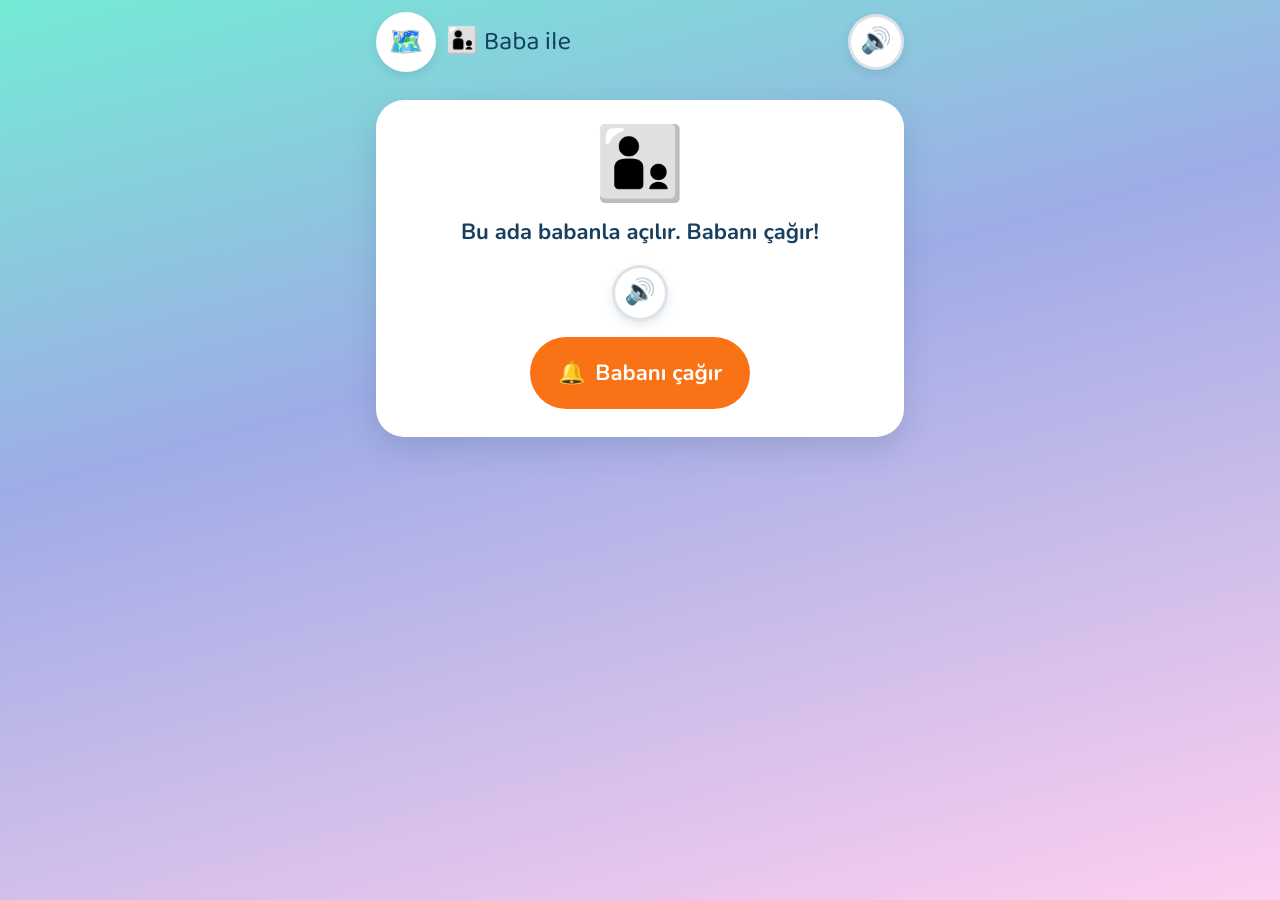
Test: IslandScreen › Baba ile adası birlikte oyun olmadan kapıyla korunur
Click the button "🔔 Babanı çağır": coordinates (640, 373) [530,337,750,409]
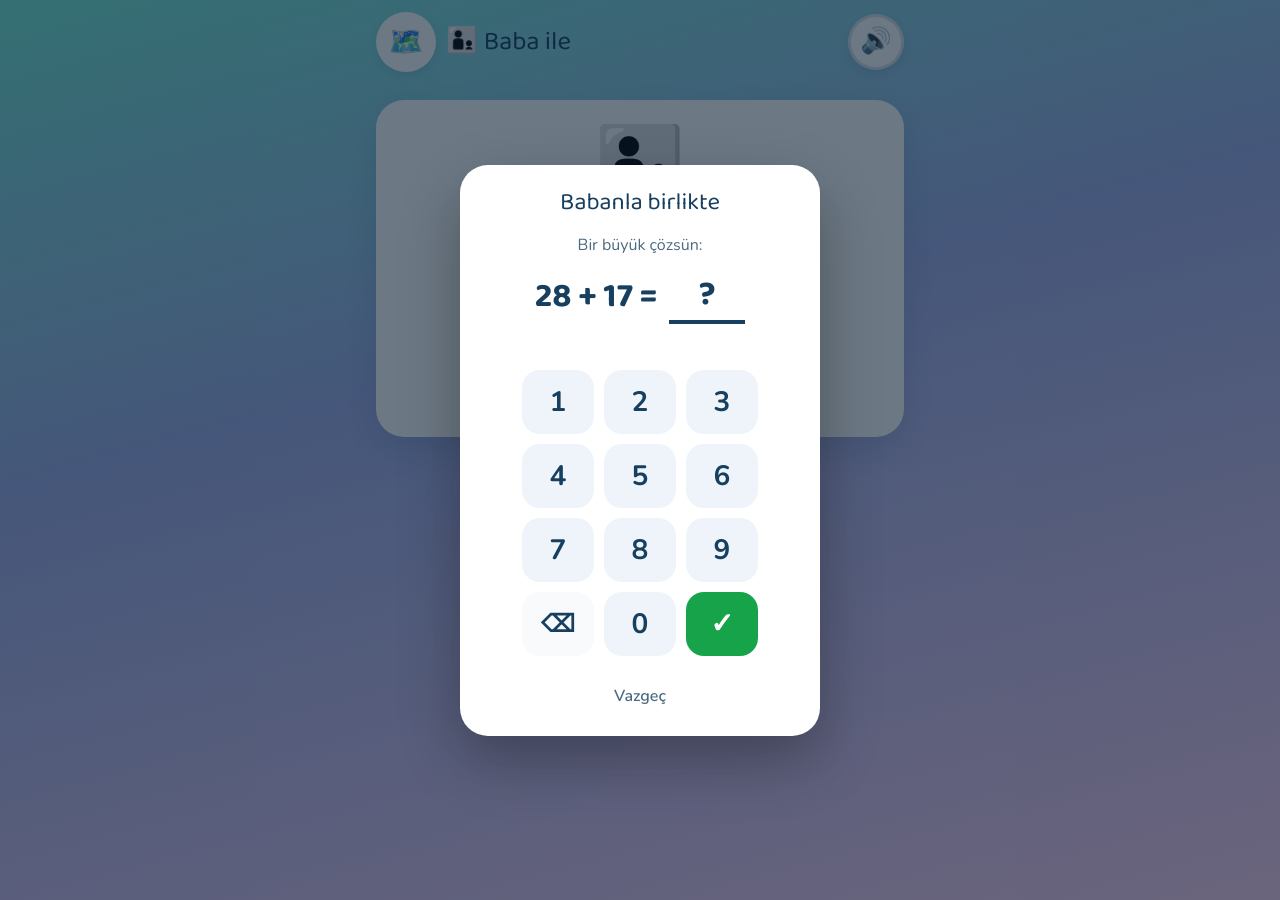
Check: the dialog is shown, box [460,164,820,736]
